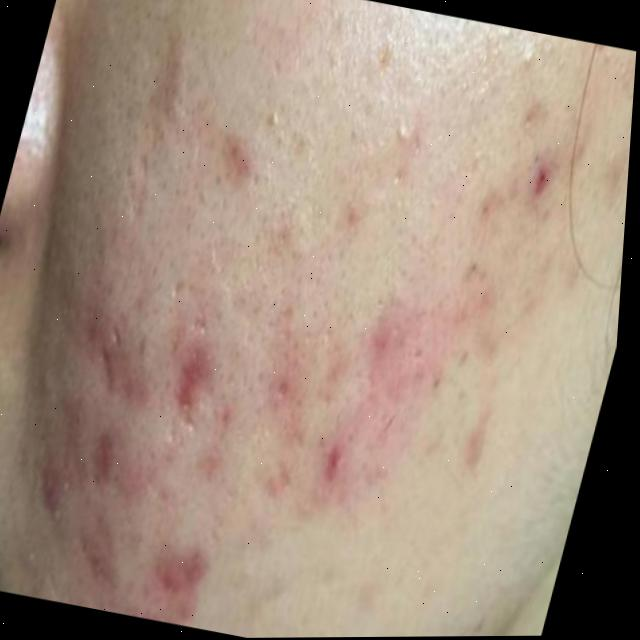Acne: (22, 80, 566, 640)
